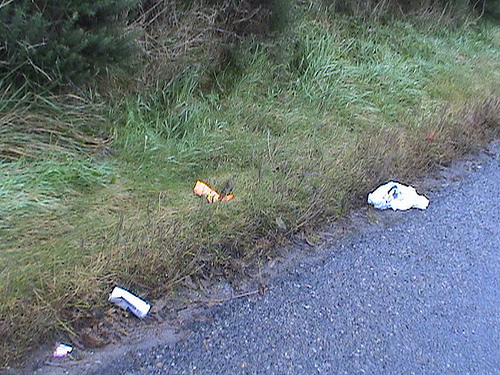litter: (368, 180, 430, 211), (108, 286, 151, 319), (192, 181, 233, 202), (52, 342, 71, 356)
